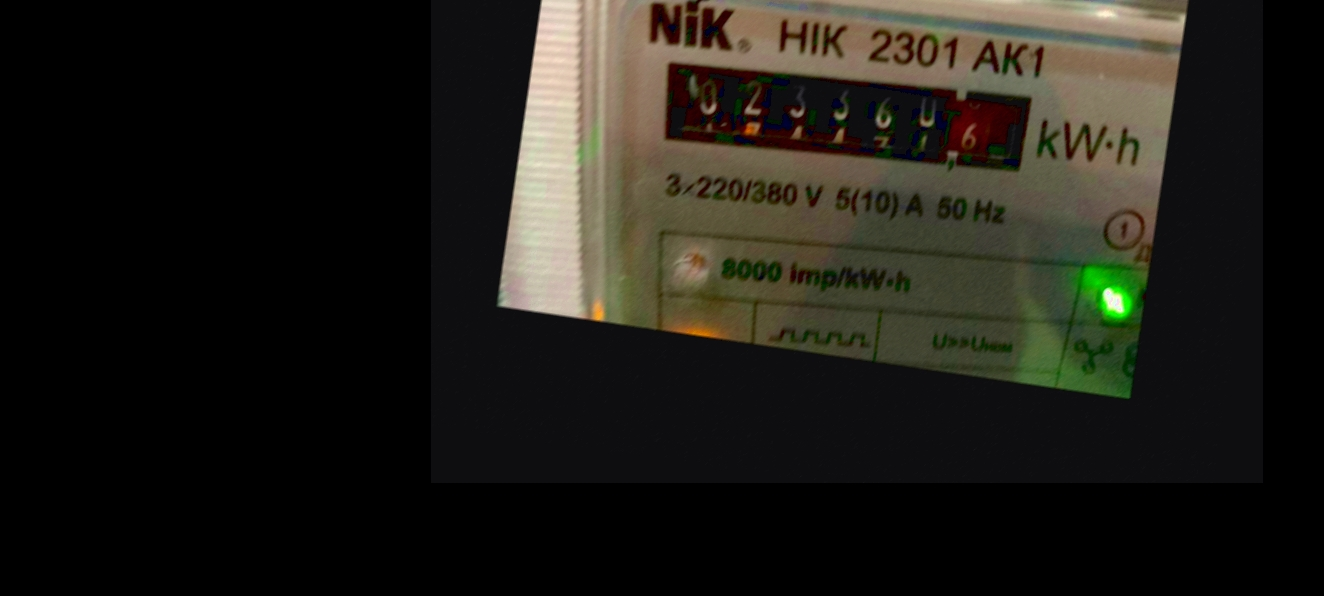0: (692, 73, 723, 118), (913, 90, 941, 130)
2: (737, 74, 768, 117)
3: (784, 78, 810, 121), (826, 83, 853, 123)
6: (867, 89, 899, 133), (957, 116, 983, 154)
screen: (633, 27, 1047, 202)
